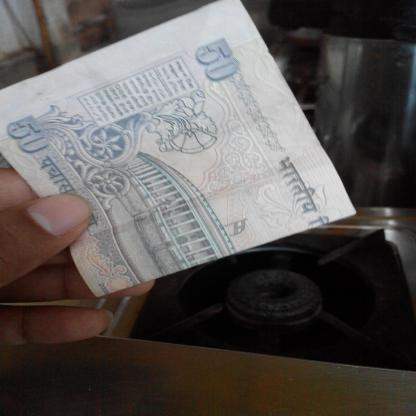Old50Back: (0, 0, 358, 299)
